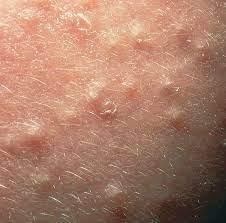sebo-crystan-conglo: (82, 72, 108, 122)
whitehead: (18, 114, 53, 156), (104, 174, 140, 212), (164, 103, 200, 136), (191, 33, 213, 76), (159, 65, 186, 100)
